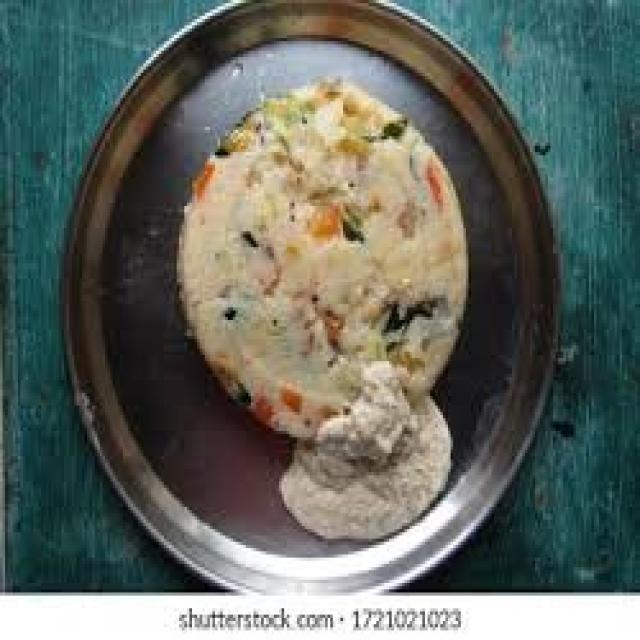UPMA: (174, 76, 463, 494)
